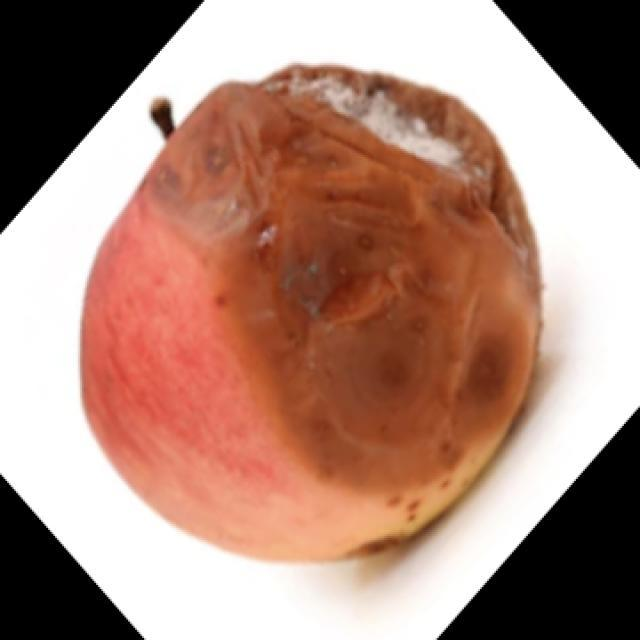Rotten: (60, 48, 562, 575)
